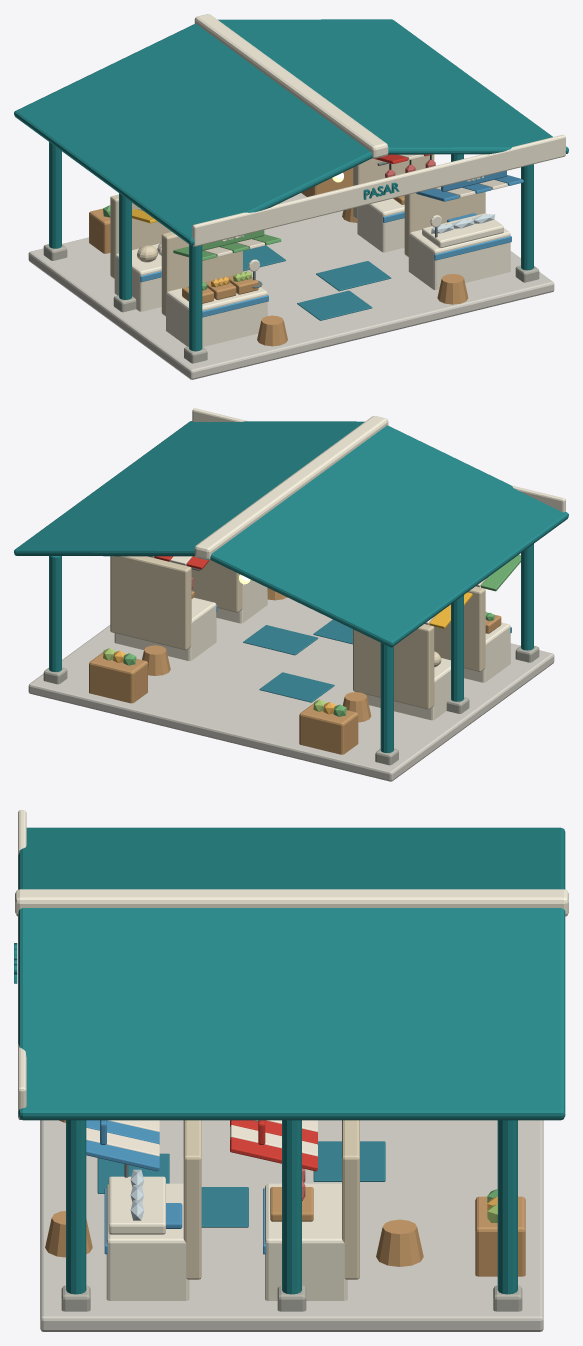
File: wetmarket-v2.glb
3 views of the same model, one above another, from view 1: azimuth 30°, elevation 25°; view 2: azimuth 150°, elevation 25°; view 3: azimuth 270°, elevation 25° (orthographic). The views are drawn at different scales.
Visible parts, largest first — view 1: WET MARKET HALL · Deep teal, WET MARKET HALL · Terrazzo, WET MARKET HALL · Chalk, WET MARKET HALL · Warm plaster, WET MARKET HALL · Sun timber, WET MARKET HALL · Graphic glass, WET MARKET HALL · Ceramic tile blue, WET MARKET HALL · Concrete, WET MARKET HALL · Utility blue, WET MARKET HALL · Plant mid, WET MARKET HALL · Awning cream, WET MARKET HALL · Fish silver; view 2: WET MARKET HALL · Deep teal, WET MARKET HALL · Terrazzo, WET MARKET HALL · Warm plaster, WET MARKET HALL · Chalk, WET MARKET HALL · Sun timber, WET MARKET HALL · Graphic glass, WET MARKET HALL · Concrete, WET MARKET HALL · Plant mid; view 3: WET MARKET HALL · Deep teal, WET MARKET HALL · Terrazzo, WET MARKET HALL · Chalk, WET MARKET HALL · Sun timber, WET MARKET HALL · Warm plaster, WET MARKET HALL · Graphic glass, WET MARKET HALL · Utility blue, WET MARKET HALL · Awning cream, WET MARKET HALL · Singapore red, WET MARKET HALL · Concrete.
Boxes of the visible parts, x1=… form: WET MARKET HALL · Deep teal: x1=14, y1=19, x2=568, y2=351; WET MARKET HALL · Terrazzo: x1=28, y1=193, x2=554, y2=379; WET MARKET HALL · Chalk: x1=114, y1=14, x2=565, y2=346; WET MARKET HALL · Warm plaster: x1=110, y1=154, x2=485, y2=316; WET MARKET HALL · Sun timber: x1=89, y1=168, x2=468, y2=346; WET MARKET HALL · Graphic glass: x1=243, y1=245, x2=391, y2=320; WET MARKET HALL · Ceramic tile blue: x1=140, y1=212, x2=511, y2=317; WET MARKET HALL · Concrete: x1=43, y1=244, x2=539, y2=363; WET MARKET HALL · Utility blue: x1=416, y1=171, x2=523, y2=222; WET MARKET HALL · Plant mid: x1=103, y1=205, x2=281, y2=290; WET MARKET HALL · Awning cream: x1=138, y1=154, x2=507, y2=256; WET MARKET HALL · Fish silver: x1=431, y1=214, x2=495, y2=233; WET MARKET HALL · Deep teal: x1=14, y1=421, x2=568, y2=752; WET MARKET HALL · Terrazzo: x1=28, y1=597, x2=554, y2=781; WET MARKET HALL · Warm plaster: x1=110, y1=556, x2=485, y2=709; WET MARKET HALL · Chalk: x1=114, y1=408, x2=565, y2=720; WET MARKET HALL · Sun timber: x1=89, y1=588, x2=501, y2=754; WET MARKET HALL · Graphic glass: x1=243, y1=619, x2=352, y2=702; WET MARKET HALL · Concrete: x1=43, y1=646, x2=539, y2=765; WET MARKET HALL · Plant mid: x1=123, y1=555, x2=520, y2=716; WET MARKET HALL · Deep teal: x1=14, y1=827, x2=565, y2=1294; WET MARKET HALL · Terrazzo: x1=40, y1=1120, x2=543, y2=1331; WET MARKET HALL · Chalk: x1=15, y1=810, x2=568, y2=1300; WET MARKET HALL · Sun timber: x1=45, y1=1120, x2=525, y2=1276; WET MARKET HALL · Warm plaster: x1=183, y1=1120, x2=359, y2=1279; WET MARKET HALL · Graphic glass: x1=97, y1=1141, x2=385, y2=1227; WET MARKET HALL · Utility blue: x1=86, y1=1120, x2=182, y2=1228; WET MARKET HALL · Awning cream: x1=86, y1=1120, x2=317, y2=1156; WET MARKET HALL · Singapore red: x1=230, y1=1120, x2=317, y2=1171; WET MARKET HALL · Concrete: x1=61, y1=1285, x2=522, y2=1311.
Bounding box in the file's own units: 9.38 × 4.65 × 7.71.
